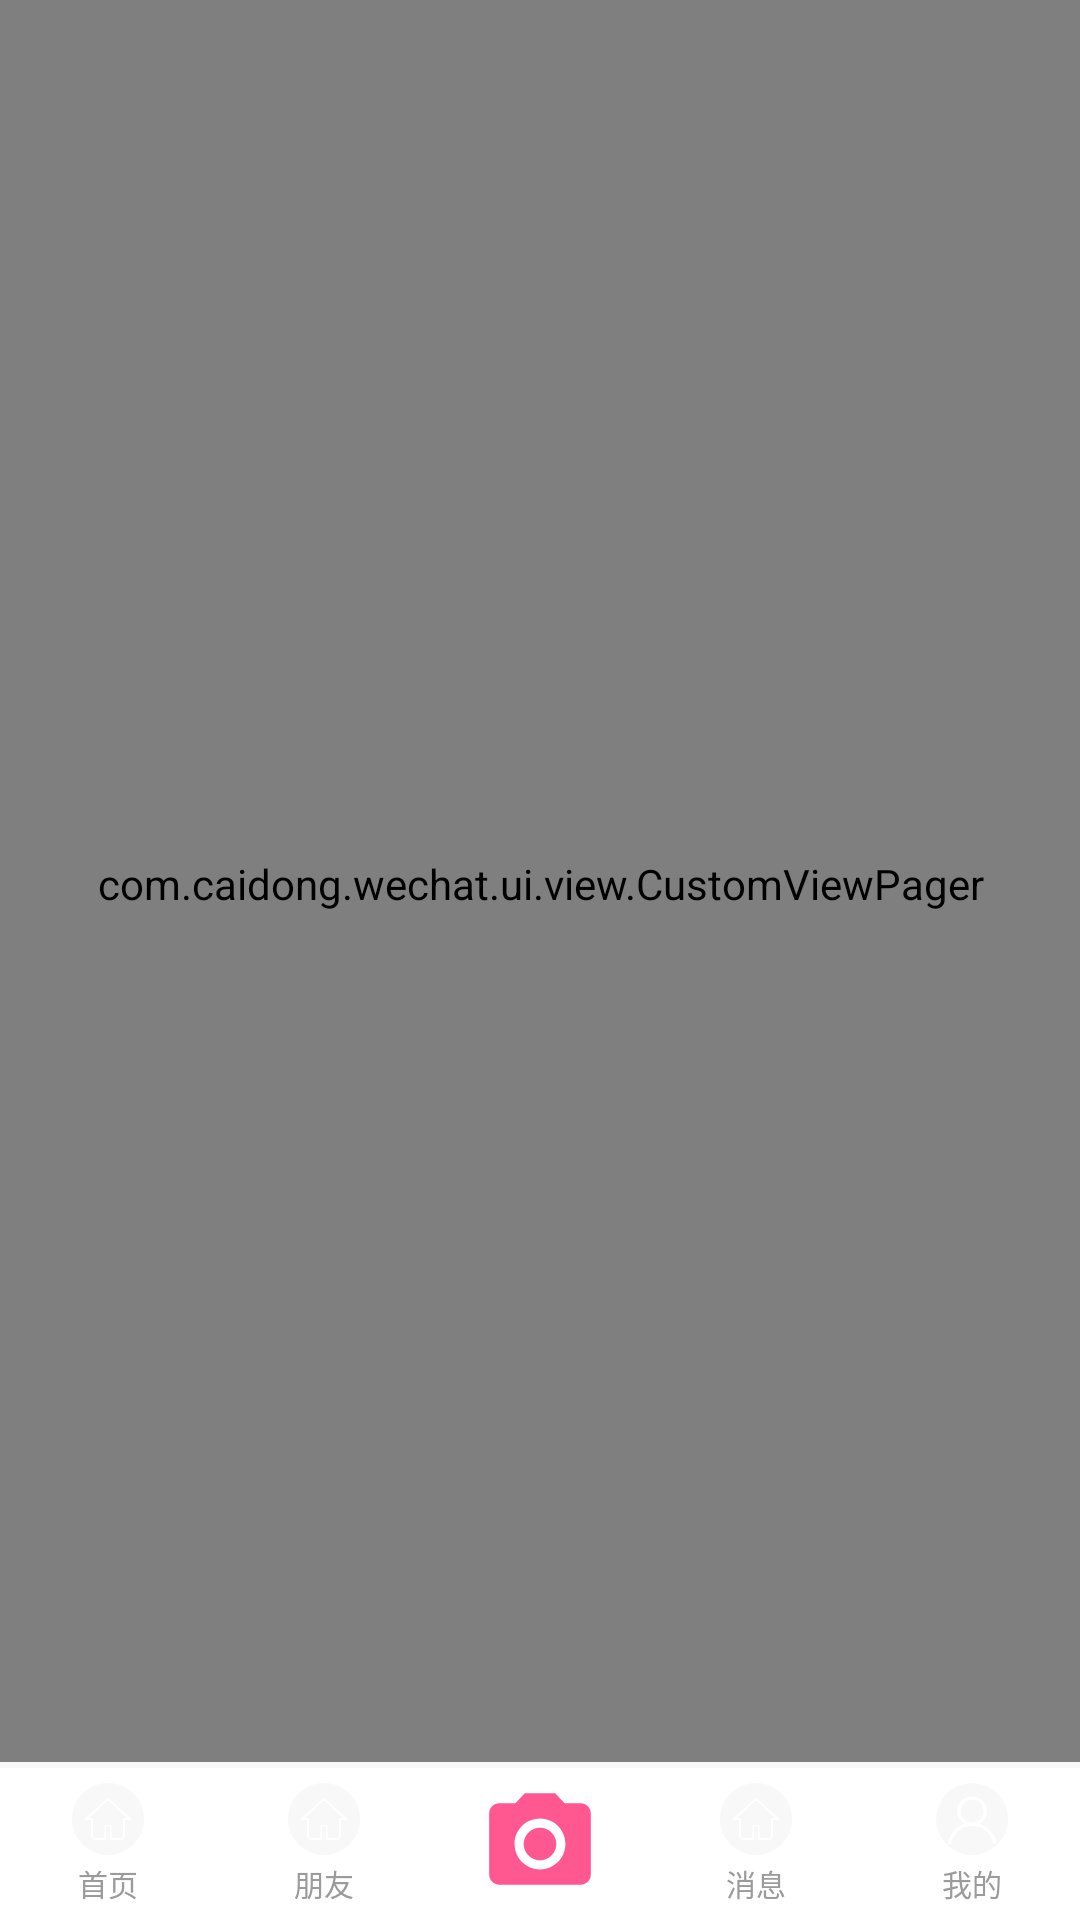

Screen size 1080px×1920px. Icon name, then its box in pixels as (x1, y1, x2, y2):
camera: (489, 1793, 591, 1885)
